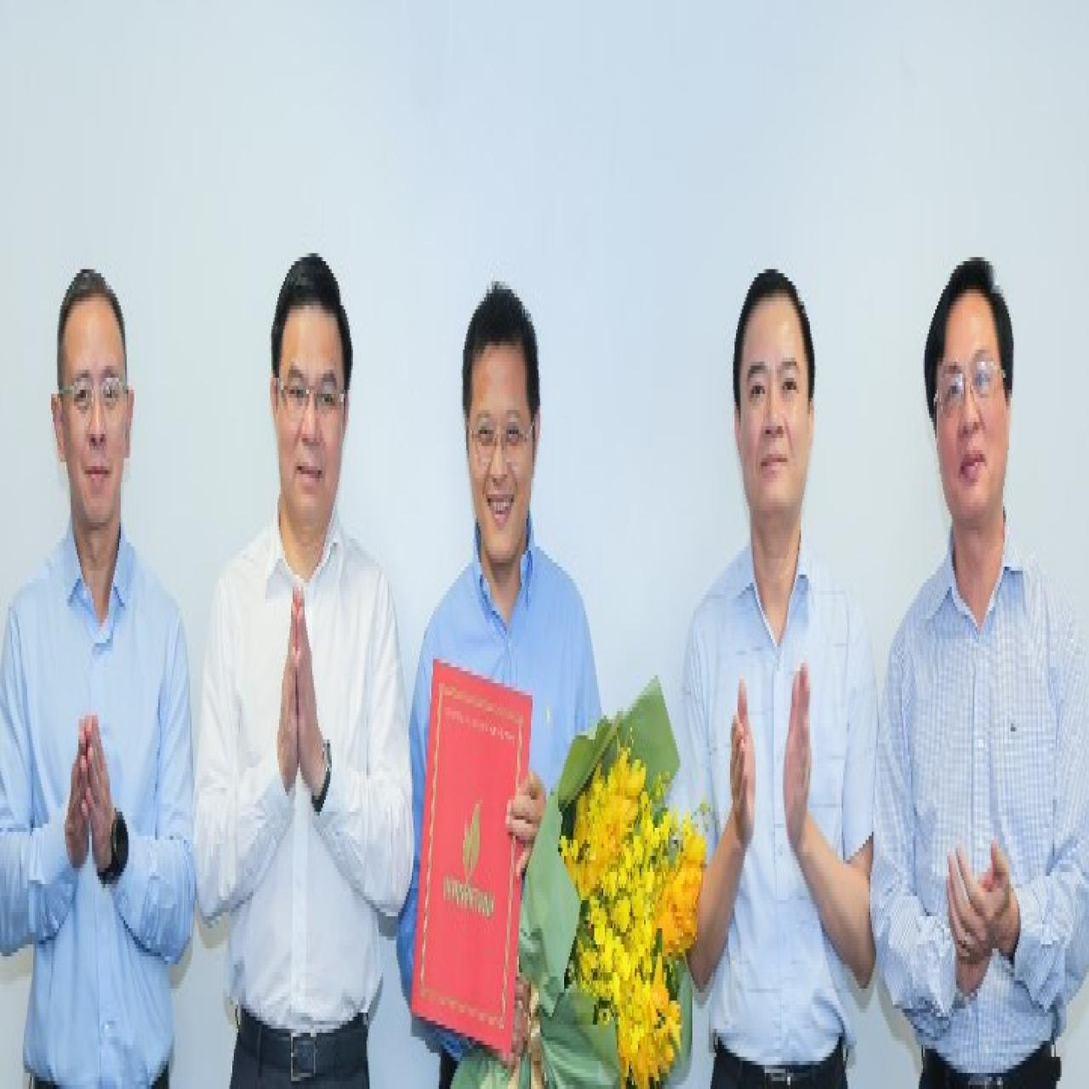NO_Safety_Vest: (13, 545, 166, 1072), (909, 549, 1061, 1068), (697, 559, 855, 1052), (230, 549, 378, 1031), (435, 563, 586, 1019)
Person: (653, 225, 885, 1089), (872, 225, 1089, 1089), (188, 241, 407, 1089), (399, 237, 607, 1089), (0, 241, 208, 1089)
